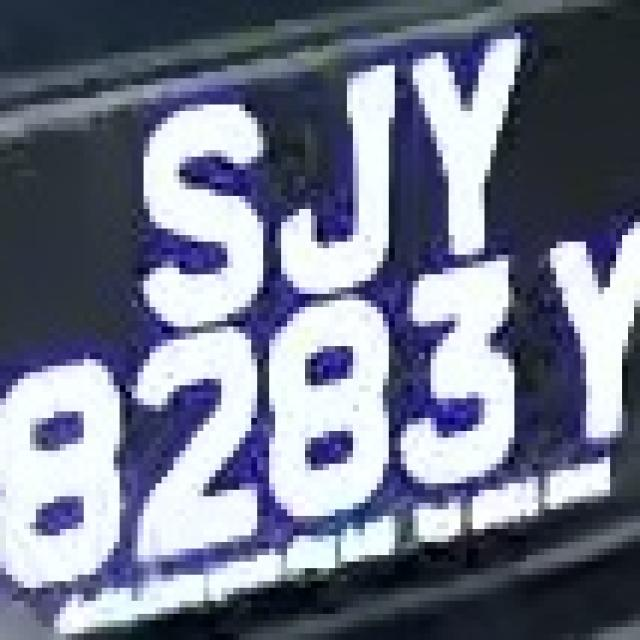2: (114, 320, 269, 568)
3: (335, 255, 538, 522)
8: (24, 327, 137, 608), (275, 288, 389, 522)
J: (281, 52, 413, 294)
S: (108, 92, 281, 340)
Y: (407, 13, 538, 281), (544, 202, 634, 463)
